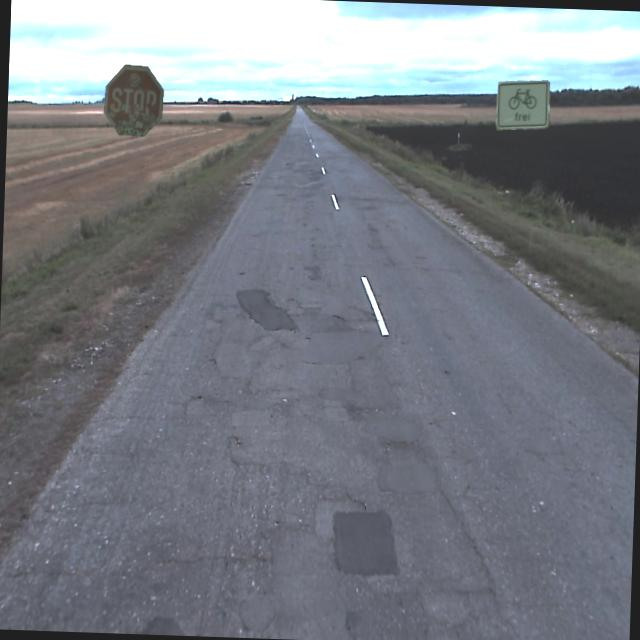road: (0, 105, 638, 640)
